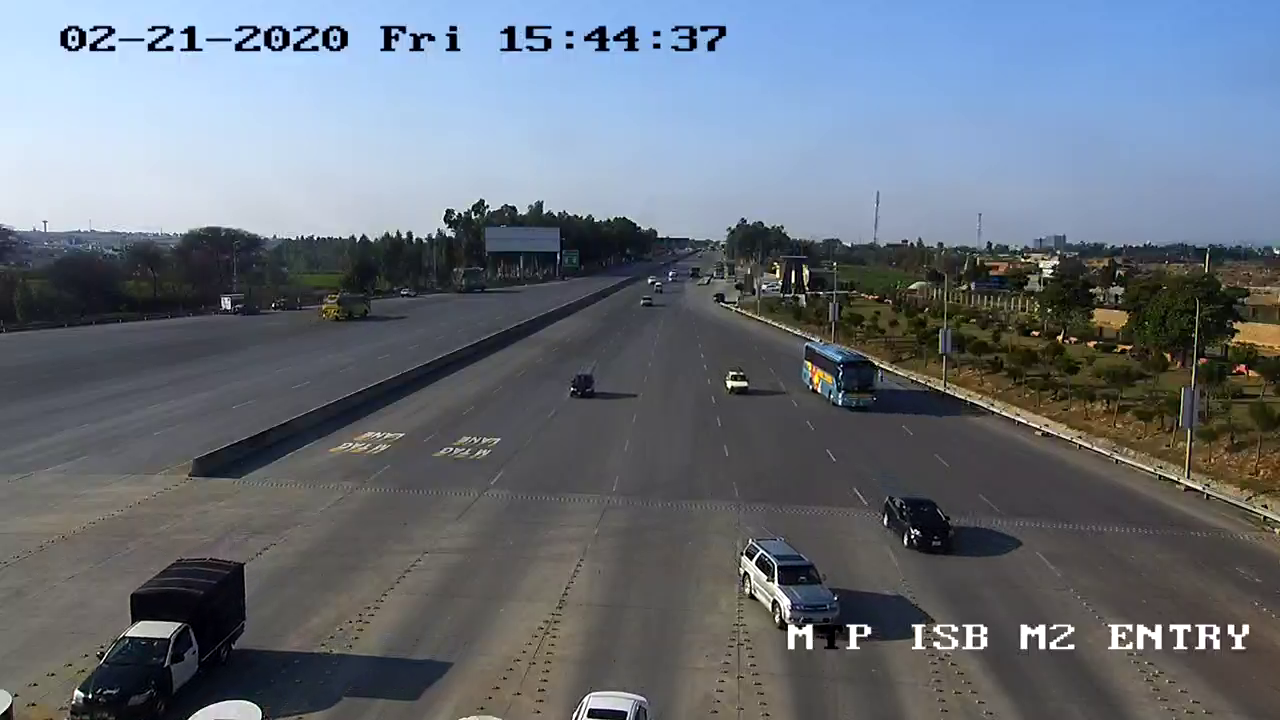f1: (60, 558, 255, 718), (731, 529, 848, 628), (874, 486, 963, 561)
f4: (795, 335, 886, 417)
